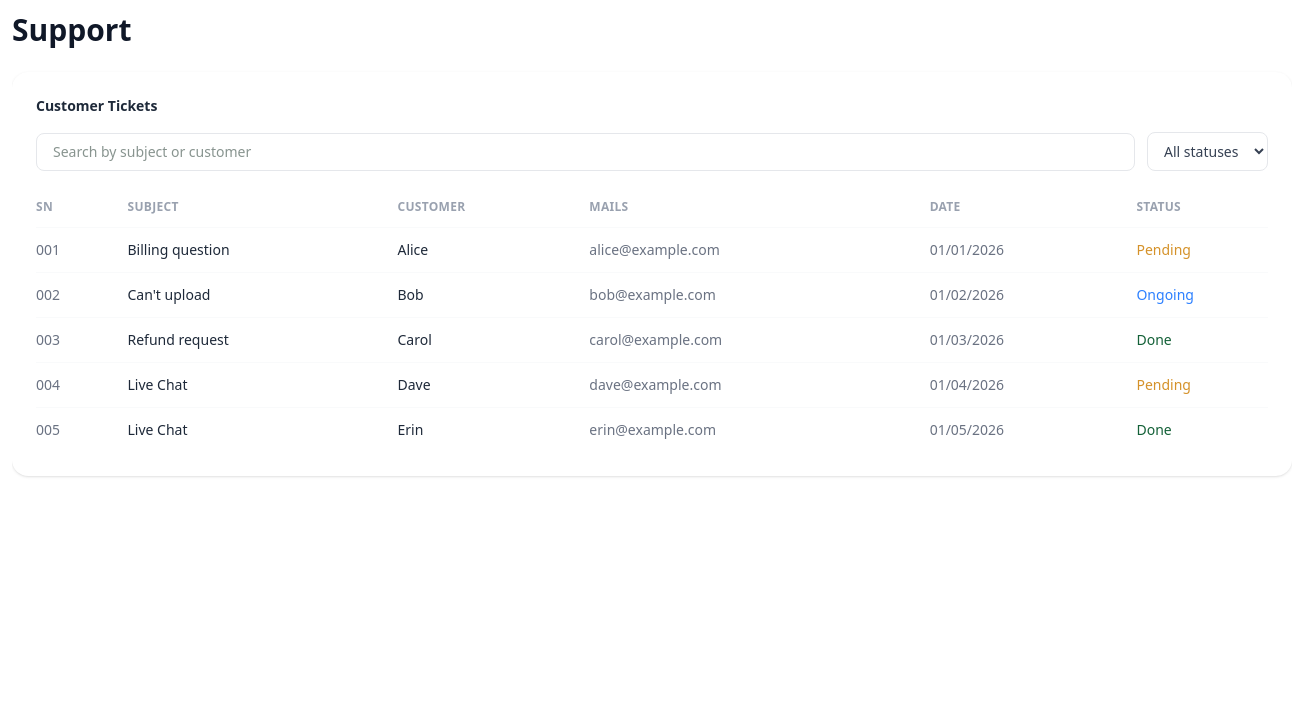
Scenario: AdminSupportPage › hides the reply box and shows a closed notice for a resolved Live Chat ticket
Step 1. Click the text "Erin" → [410, 430], box [398, 408, 589, 452]
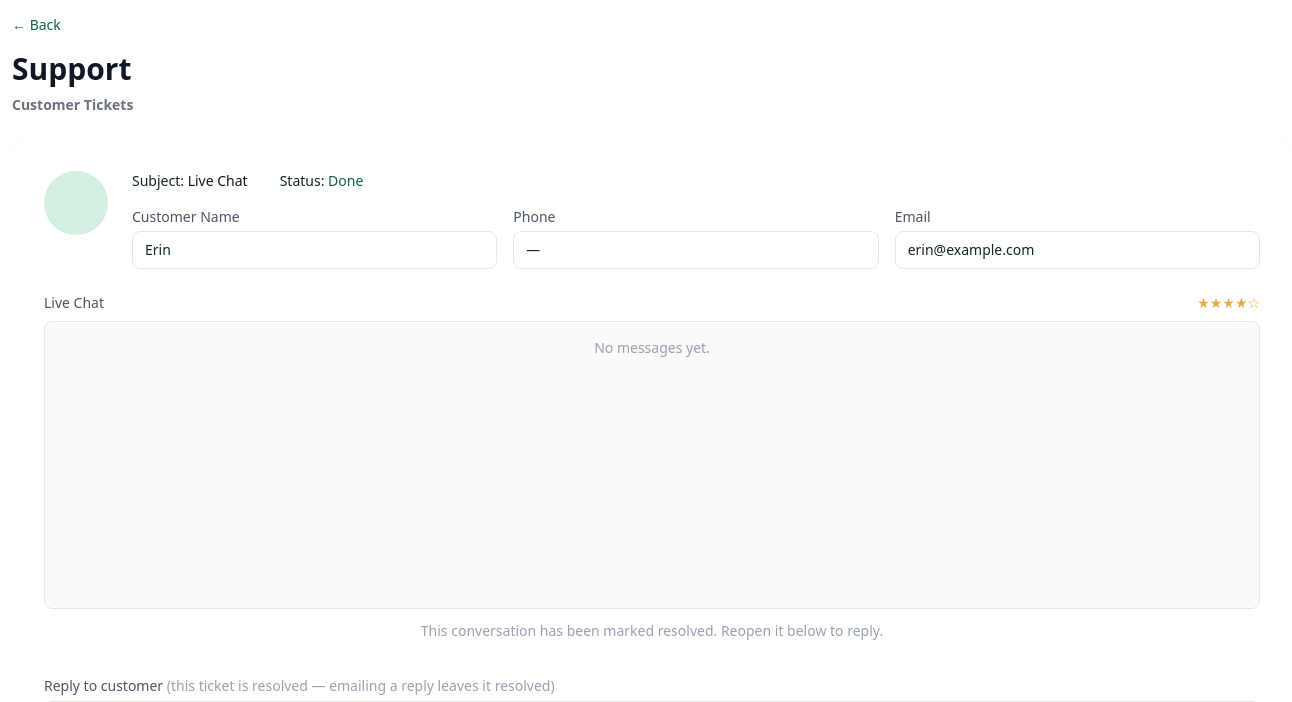
Result: the text "No messages yet." is shown at [594, 338, 710, 357]
Result: the text "This conversation has been marked resolved. Reopen it below to reply." is shown at [421, 621, 883, 640]
Result: the text titled "Customer rated 4/5" reads "★★★★☆" at [1197, 293, 1260, 313]
